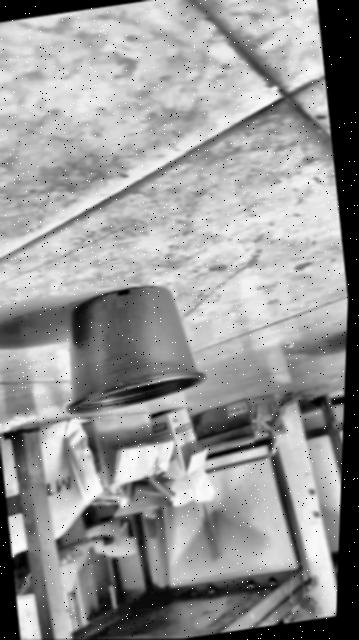pot: (47, 278, 209, 417)
